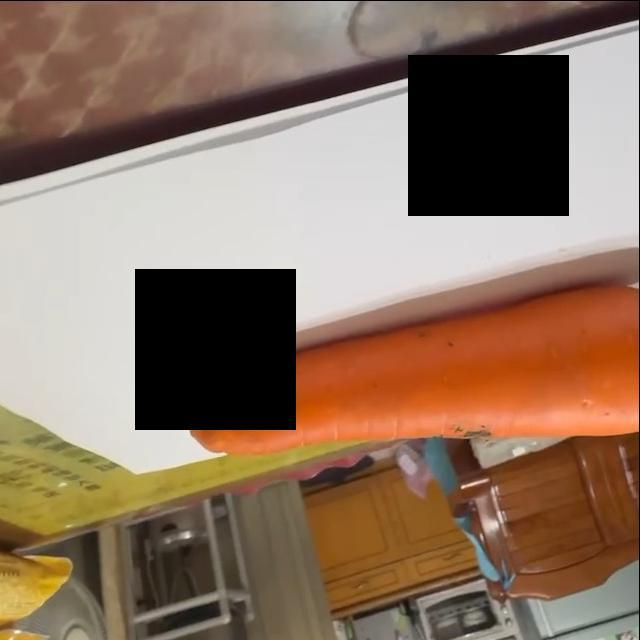carrot: (190, 284, 640, 459)
